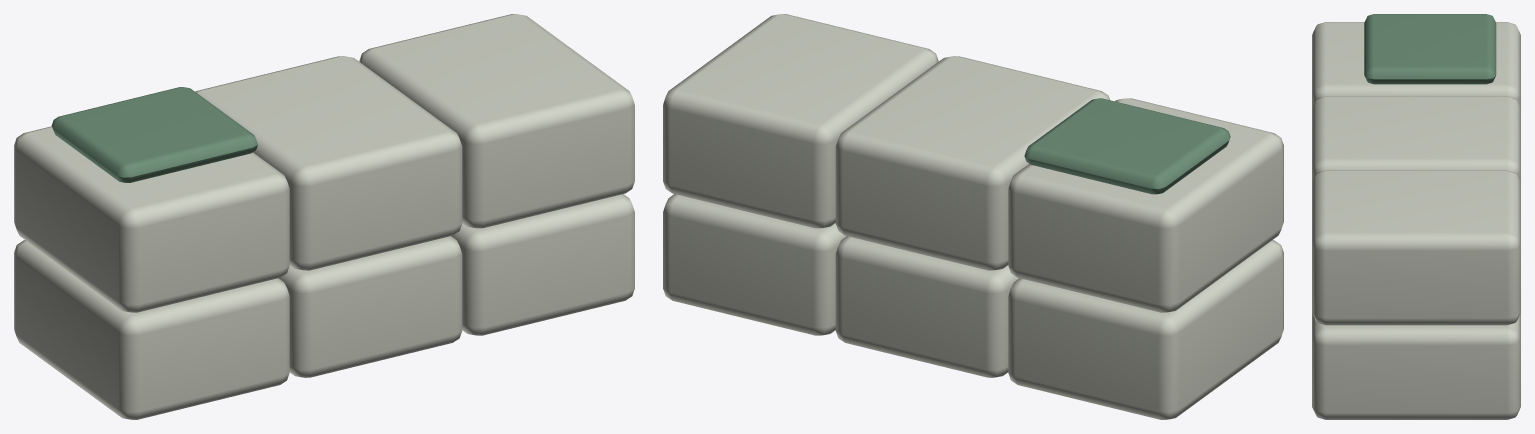
The model's file is obstacle_0.glb.
3 views of the same model, side by side, from view 1: azimuth 30°, elevation 25°; view 2: azimuth 150°, elevation 25°; view 3: azimuth 270°, elevation 25° (orthographic). The views are drawn at different scales.
Visible parts, largest first — view 1: pierre_claire, mousse; view 2: pierre_claire, mousse; view 3: pierre_claire, mousse.
Boxes of the visible parts, x1=… form: pierre_claire: x1=14, y1=14, x2=634, y2=419; mousse: x1=51, y1=87, x2=257, y2=182; pierre_claire: x1=663, y1=14, x2=1283, y2=419; mousse: x1=1024, y1=98, x2=1230, y2=194; pierre_claire: x1=1312, y1=22, x2=1520, y2=419; mousse: x1=1364, y1=14, x2=1496, y2=84.
Bounding box in the file's own units: 0.955 × 0.41 × 0.38.
